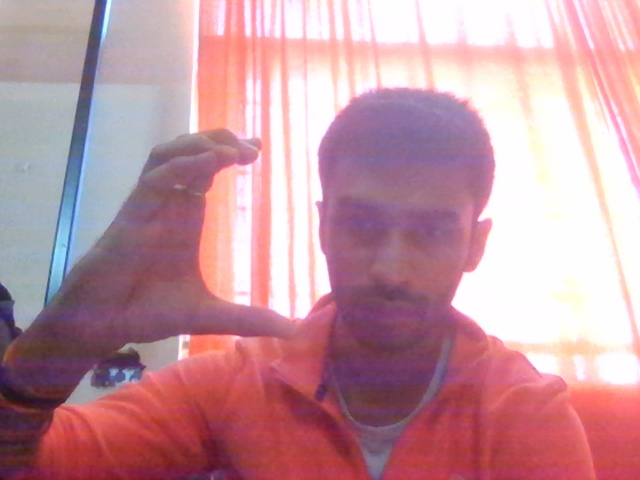C: (26, 107, 313, 421)
